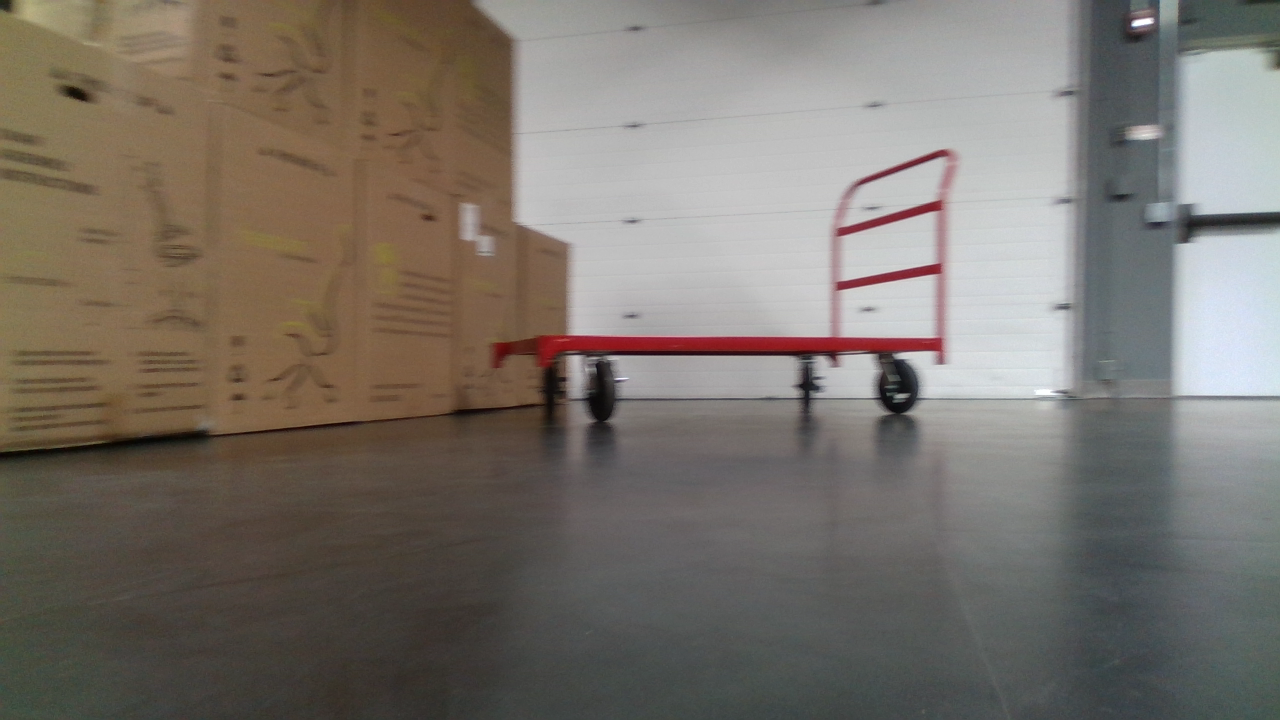Dolly: (486, 141, 963, 426)
Wheel: (871, 352, 923, 414), (580, 358, 627, 423), (528, 358, 572, 419), (790, 358, 822, 413)
